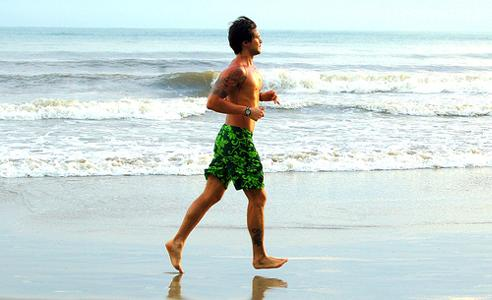person: (165, 17, 290, 272)
